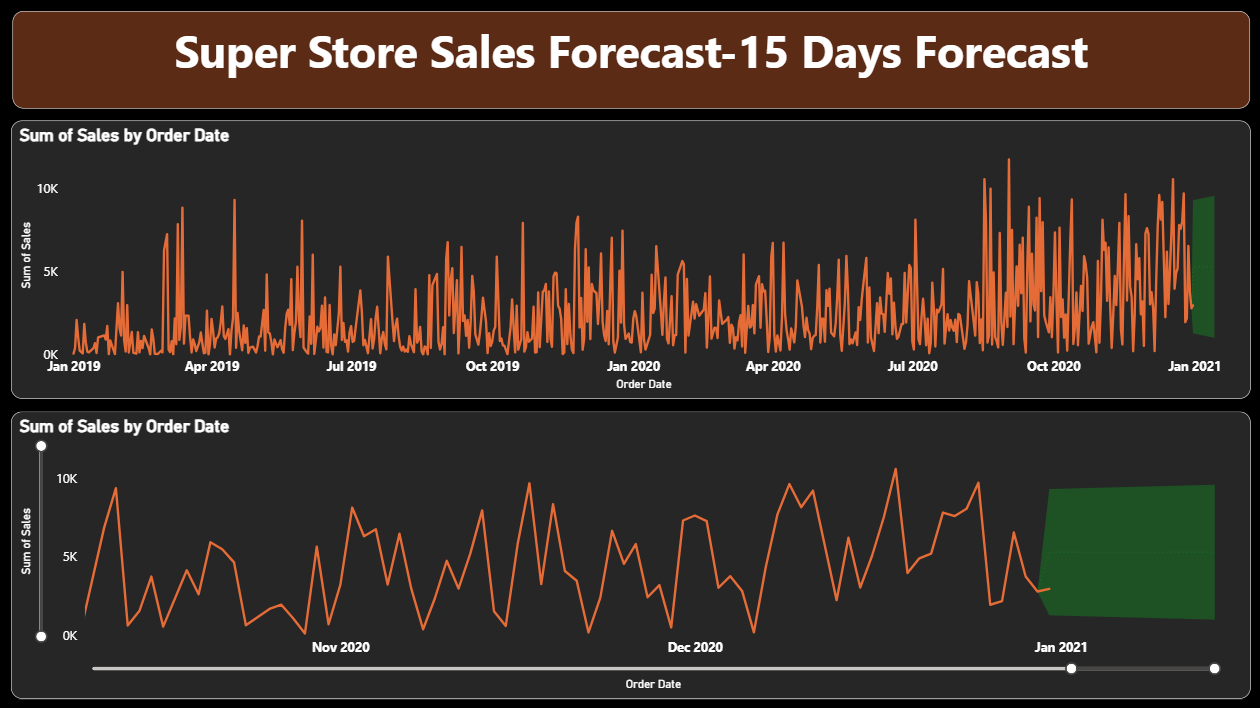

This screenshot's page, from the dashboard's own definition file:
{"tool":"powerbi","page":{"name":"Sales Forecasting","canvas":[1600,900],"ordinal":1},"visuals":[{"type":"lineChart","fields":{"Y":["Sum(SuperStore_Sales_Dataset.Sales)"],"Category":["SuperStore_Sales_Dataset.Order Date"]},"box":[18.2,156.8,1559.1,350],"z":0},{"type":"lineChart","fields":{"Y":["Sum(SuperStore_Sales_Dataset.Sales)"],"Category":["SuperStore_Sales_Dataset.Order Date"]},"box":[18.2,522.7,1559.1,361.4],"z":1000},{"type":"textbox","box":[20.5,18.2,1556.8,122.7],"z":2000}]}

Visuals, with their boxes in screenshot pixels (x1, y1, x2, y2), scaled from the page's 1600x900 canvas onto the 1260x708 screenshot:
lineChart - Sum(SuperStore_Sales_Dataset.Sales) x SuperStore_Sales_Dataset.Order Date: 14,123,1242,399
lineChart - Sum(SuperStore_Sales_Dataset.Sales) x SuperStore_Sales_Dataset.Order Date: 14,411,1242,695
textbox: 16,14,1242,111
